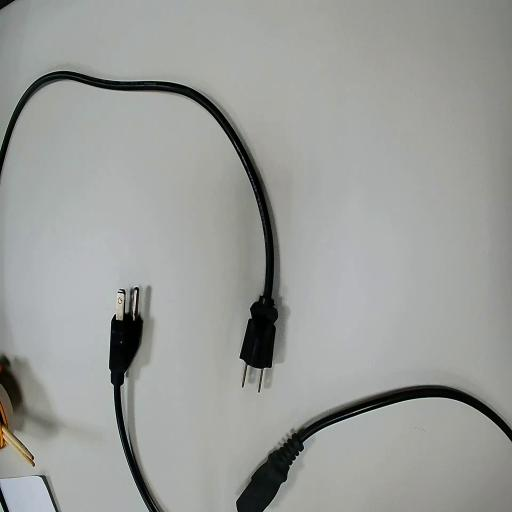wire: (0, 72, 277, 368), (237, 386, 511, 511), (110, 306, 157, 511)
